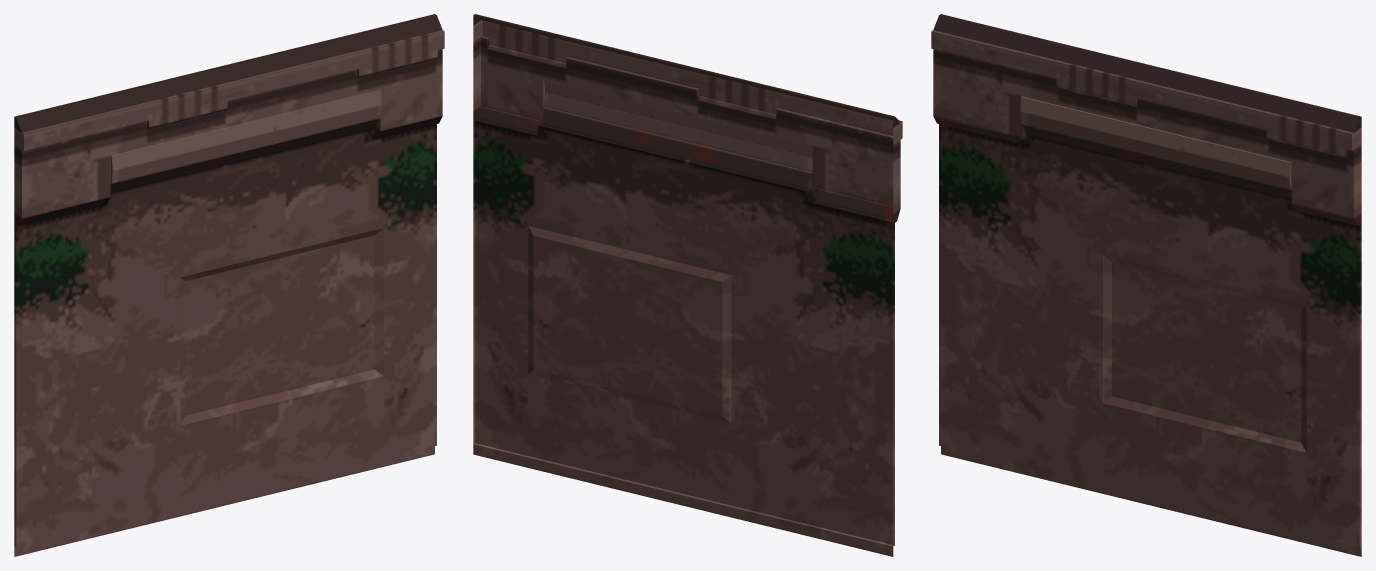
Rendered from grove2_4.fbx.
The picture shows the model from 3 angles, left to right: view 1: azimuth 30°, elevation 25°; view 2: azimuth 150°, elevation 25°; view 3: azimuth 330°, elevation 25°; orthographic projection.
Parts seen in each view (by area): view 1: grove2_4_mesh; view 2: grove2_4_mesh; view 3: grove2_4_mesh.
Boxes of the visible parts, x1,y1,x2,y2 form: grove2_4_mesh: (14,14,444,556); grove2_4_mesh: (473,14,902,556); grove2_4_mesh: (931,14,1361,556).
Bounding box in the file's own units: 256 × 256 × 10.
